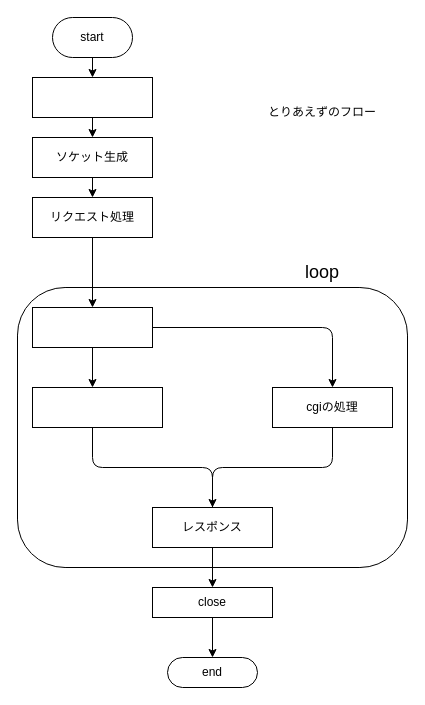
Some shapes in this 425 by 705 pixel diagram are drawn without their labels. Here are the shapes that lost their labels. From the top down, the box of each, then its label:
(32, 76, 152, 118): config file 読み込み
(32, 306, 152, 348): イベント駆動
(32, 386, 162, 428): httpリクエストの処理
